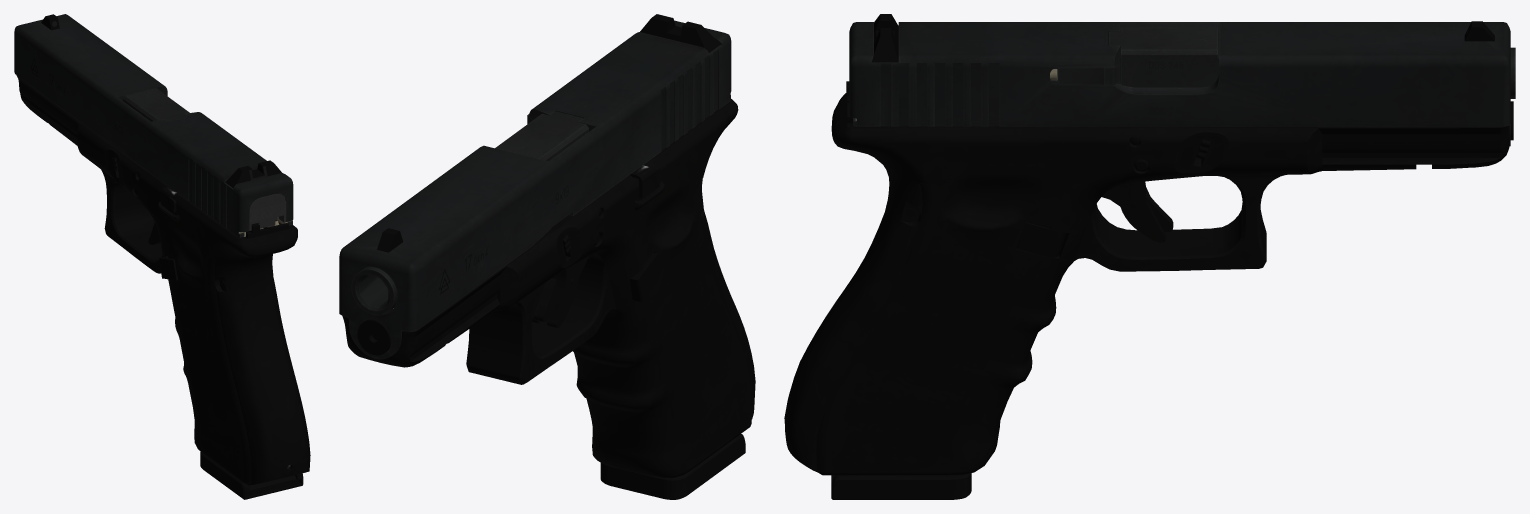
3 renders of one model, left to right at view 1: azimuth 30°, elevation 25°; view 2: azimuth 150°, elevation 25°; view 3: azimuth 270°, elevation 25°, orthographic. The views are drawn at different scales.
Visible parts, largest first — view 1: g17_base_00_Frame_2k_0, g17_slide_07_Slide_2k_0, g17_magazine_03_Magazine_2k_0, g17_base_01_Barrel_1k_0, g17_slide_06_Slide_Cover_Plate_512_0, g17_slide_04_Sights_512_0, g17_slidestopper_02_Base_2k_0; view 2: g17_base_00_Frame_2k_0, g17_slide_07_Slide_2k_0, g17_base_01_Barrel_1k_0, g17_magazine_03_Magazine_2k_0, g17_trigger_02_Base_2k_0, g17_slide_04_Sights_512_0, g17_base_02_Base_2k_0, g17_slidestopper_02_Base_2k_0; view 3: g17_base_00_Frame_2k_0, g17_slide_07_Slide_2k_0, g17_base_01_Barrel_1k_0, g17_magazine_03_Magazine_2k_0, g17_trigger_02_Base_2k_0, g17_slide_04_Sights_512_0.
Part boxes in pixels (x1,y1,x2,y2): g17_base_00_Frame_2k_0: (16,75,310,485); g17_slide_07_Slide_2k_0: (14,14,293,237); g17_magazine_03_Magazine_2k_0: (200,451,303,499); g17_base_01_Barrel_1k_0: (123,88,189,121); g17_slide_06_Slide_Cover_Plate_512_0: (249,194,285,230); g17_slide_04_Sights_512_0: (41,14,281,188); g17_slidestopper_02_Base_2k_0: (160,186,177,213); g17_base_00_Frame_2k_0: (342,99,755,477); g17_slide_07_Slide_2k_0: (339,20,731,359); g17_base_01_Barrel_1k_0: (351,111,588,315); g17_magazine_03_Magazine_2k_0: (600,434,745,499); g17_trigger_02_Base_2k_0: (532,257,588,327); g17_slide_04_Sights_512_0: (377,14,720,252); g17_base_02_Base_2k_0: (357,202,701,355); g17_slidestopper_02_Base_2k_0: (629,165,660,198); g17_base_00_Frame_2k_0: (784,93,1509,475); g17_slide_07_Slide_2k_0: (849,22,1510,146); g17_base_01_Barrel_1k_0: (1109,27,1515,98); g17_magazine_03_Magazine_2k_0: (831,126,1059,499); g17_trigger_02_Base_2k_0: (1102,181,1173,242); g17_slide_04_Sights_512_0: (872,14,1494,62).
Size of the model in its own units: 0.0418 by 0.1744 by 0.254.
Materials: 8 (8 with a texture image).
